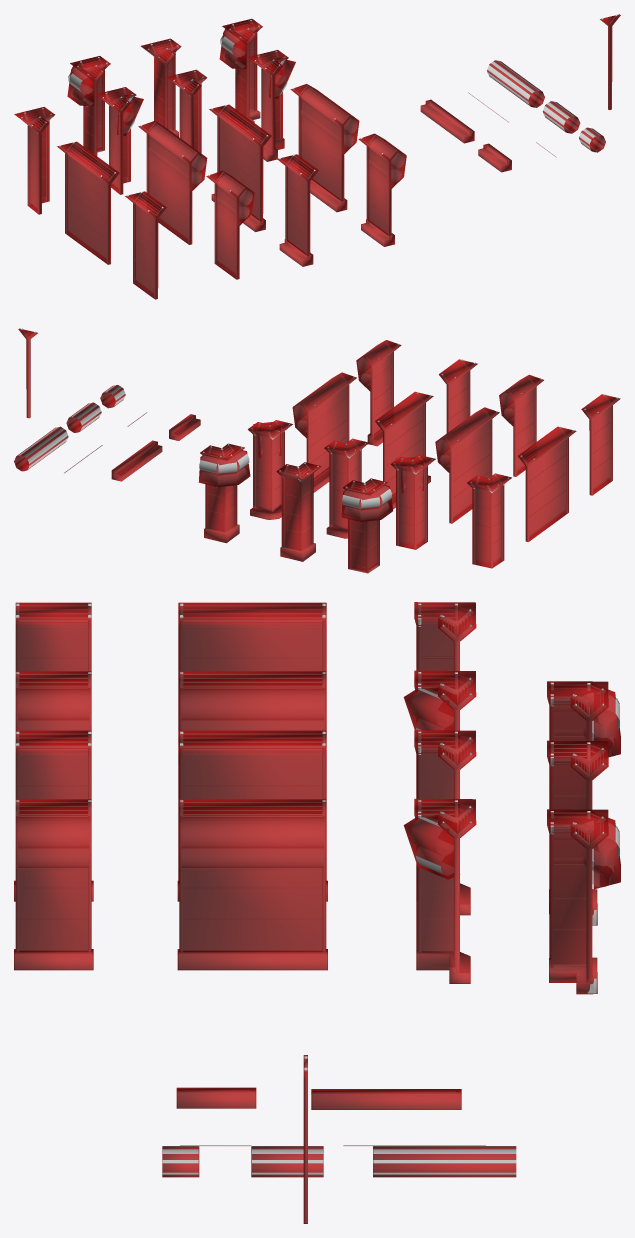
The model's file is prison_fence_with_proxy.obj.
The picture shows the model from 3 angles, top to bottom: view 1: azimuth 30°, elevation 25°; view 2: azimuth 150°, elevation 25°; view 3: azimuth 270°, elevation 25°; orthographic projection. The views are drawn at different scales.
Parts seen in each view (by area): view 1: prison_fence_large, prison_fence_large_nobase, prison_fence_large_nobarbed_nobase, prison_fence_large_nobarbed, prison_fence_small, prison_fence_small_nobase, prison_fence_small_nobarbed, prison_fence_corner_out, prison_fence_small_nobarbed_nobase, prison_fence_corner_out_nobase, prison_fence_corner_in, prison_fence_corner_in_nobase (+9 smaller); view 2: prison_fence_large_nobarbed_nobase, prison_fence_large_nobase, prison_fence_large, prison_fence_corner_out, prison_fence_corner_out_nobase, prison_fence_corner_out_nobarbed, prison_fence_corner_in_nobarbed_nobase, prison_fence_large_nobarbed, prison_fence_corner_in, prison_fence_corner_in_nobase, prison_fence_small, prison_fence_small_nobase (+9 smaller); view 3: prison_fence_large, prison_fence_small, prison_fence_large_nobarbed, prison_fence_large_nobarbed_nobase, prison_fence_corner_out, prison_fence_corner_in, prison_fence_large_nobase, prison_fence_small_nobarbed, prison_fence_small_nobarbed_nobase, prison_fence_small_nobase, prison_fence_barbed_wire_large, prison_fence_corner_out_nobase (+9 smaller).
Boxes of the visible parts, left/top/right/bottom form: prison_fence_large: left=290, top=84, right=359, bottom=212; prison_fence_large_nobase: left=138, top=121, right=207, bottom=244; prison_fence_large_nobarbed_nobase: left=57, top=141, right=119, bottom=264; prison_fence_large_nobarbed: left=209, top=104, right=271, bottom=231; prison_fence_small: left=358, top=133, right=406, bottom=246; prison_fence_small_nobase: left=206, top=170, right=254, bottom=279; prison_fence_small_nobarbed: left=277, top=154, right=318, bottom=266; prison_fence_corner_out: left=219, top=18, right=262, bottom=122; prison_fence_small_nobarbed_nobase: left=125, top=191, right=166, bottom=299; prison_fence_corner_out_nobase: left=67, top=56, right=110, bottom=155; prison_fence_corner_in: left=248, top=50, right=295, bottom=161; prison_fence_corner_in_nobase: left=95, top=87, right=143, bottom=194; prison_fence_large_nobarbed_nobase: left=518, top=426, right=576, bottom=541; prison_fence_large_nobase: left=435, top=407, right=499, bottom=523; prison_fence_large: left=292, top=372, right=356, bottom=492; prison_fence_corner_out: left=198, top=443, right=250, bottom=543; prison_fence_corner_out_nobase: left=341, top=478, right=392, bottom=573; prison_fence_corner_out_nobarbed: left=276, top=462, right=321, bottom=561; prison_fence_corner_in_nobarbed_nobase: left=467, top=473, right=511, bottom=568; prison_fence_large_nobarbed: left=375, top=391, right=433, bottom=509; prison_fence_corner_in: left=248, top=420, right=292, bottom=519; prison_fence_corner_in_nobase: left=390, top=455, right=435, bottom=549; prison_fence_small: left=356, top=340, right=401, bottom=446; prison_fence_small_nobase: left=499, top=374, right=543, bottom=476; prison_fence_large: left=177, top=799, right=327, bottom=970; prison_fence_small: left=14, top=799, right=93, bottom=970; prison_fence_large_nobarbed: left=177, top=730, right=327, bottom=901; prison_fence_large_nobarbed_nobase: left=178, top=602, right=326, bottom=730; prison_fence_corner_out: left=547, top=809, right=620, bottom=994; prison_fence_corner_in: left=403, top=798, right=476, bottom=983; prison_fence_large_nobase: left=179, top=671, right=326, bottom=730; prison_fence_small_nobarbed: left=14, top=730, right=93, bottom=901; prison_fence_small_nobarbed_nobase: left=15, top=602, right=91, bottom=671; prison_fence_small_nobase: left=15, top=671, right=91, bottom=730; prison_fence_barbed_wire_large: left=373, top=1146, right=516, bottom=1177; prison_fence_corner_out_nobase: left=547, top=681, right=620, bottom=757.
Size of the model in its own units: 3133 by 505 by 1712.
